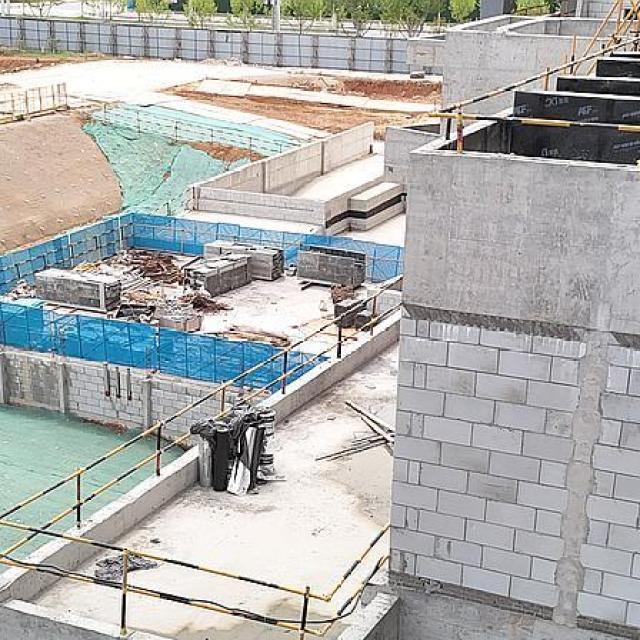edge_guardrail: (0, 270, 406, 640), (427, 35, 640, 155), (0, 222, 186, 287), (517, 1, 559, 15)
